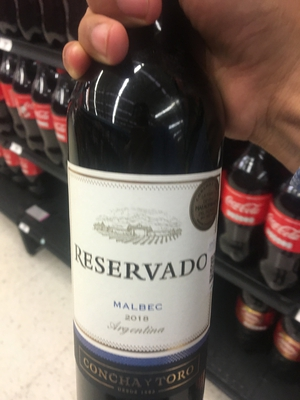reservado malbec: (57, 28, 225, 399)
